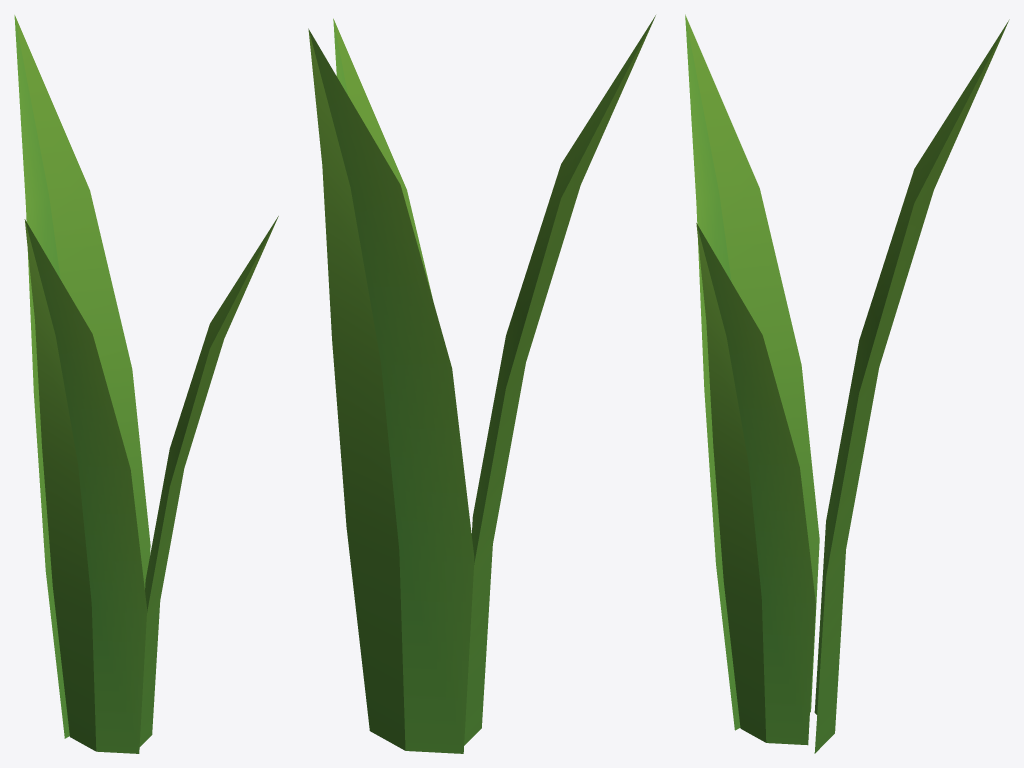
File: Grass_2_B_Singlesided_Color1.fbx
The picture shows the model from 3 angles, left to right: view 1: azimuth 30°, elevation 25°; view 2: azimuth 150°, elevation 25°; view 3: azimuth 270°, elevation 25°; orthographic projection. The views are drawn at different scales.
Visible parts, largest first — view 1: Grass_2_B_Singlesided_Color1; view 2: Grass_2_B_Singlesided_Color1; view 3: Grass_2_B_Singlesided_Color1.
Boxes of the visible parts, <box> form: Grass_2_B_Singlesided_Color1: <box>14,15,278,753</box>; Grass_2_B_Singlesided_Color1: <box>308,15,655,753</box>; Grass_2_B_Singlesided_Color1: <box>685,14,1009,753</box>.
Size of the model in its own units: 0.3841 by 0.9188 by 0.3783.
